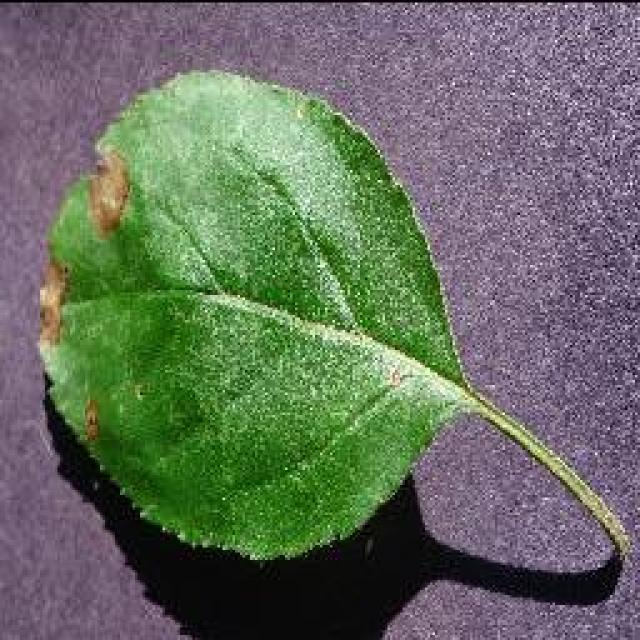Black_rot: (32, 65, 630, 585)
